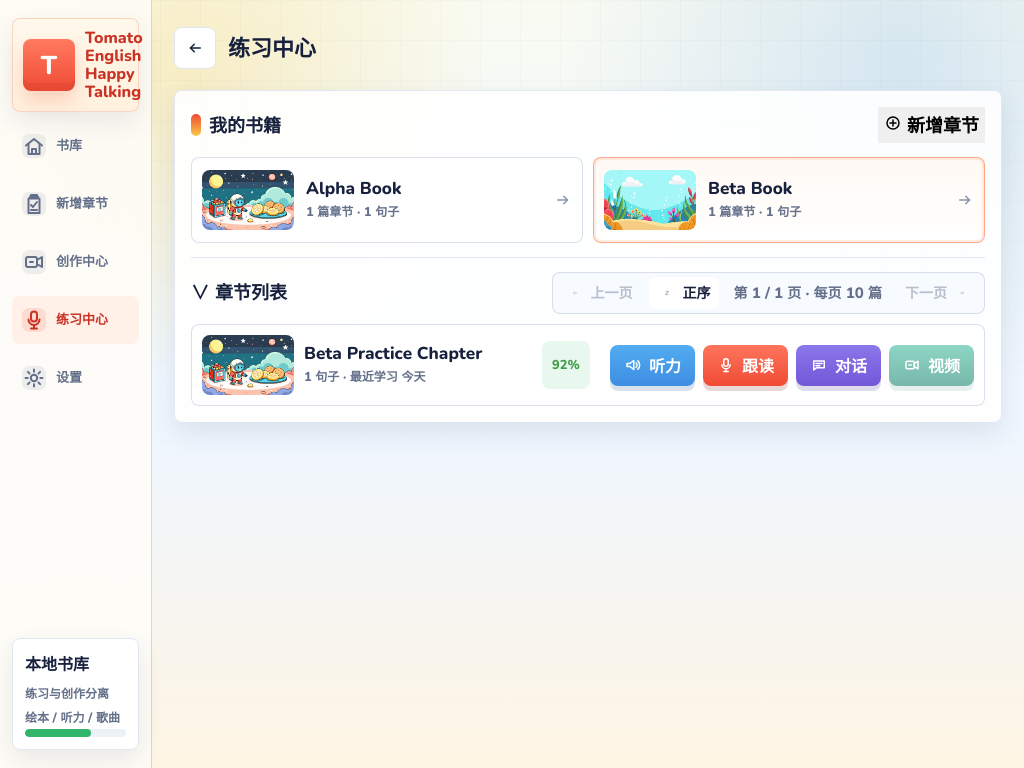
Test: App › opens the practice center at the requested book
The width and height of the screenshot is (1024, 768).
Check: the button "练习中心" is shown, box [12,296,139,344]
Check: the text "我的书籍" is shown, box [191,111,281,139]
What coordinates should you click on to do the following:
click the button with aria-label "折叠章节列表"
I would click on:
 (239, 293)
Its box is [191,282,287,304].
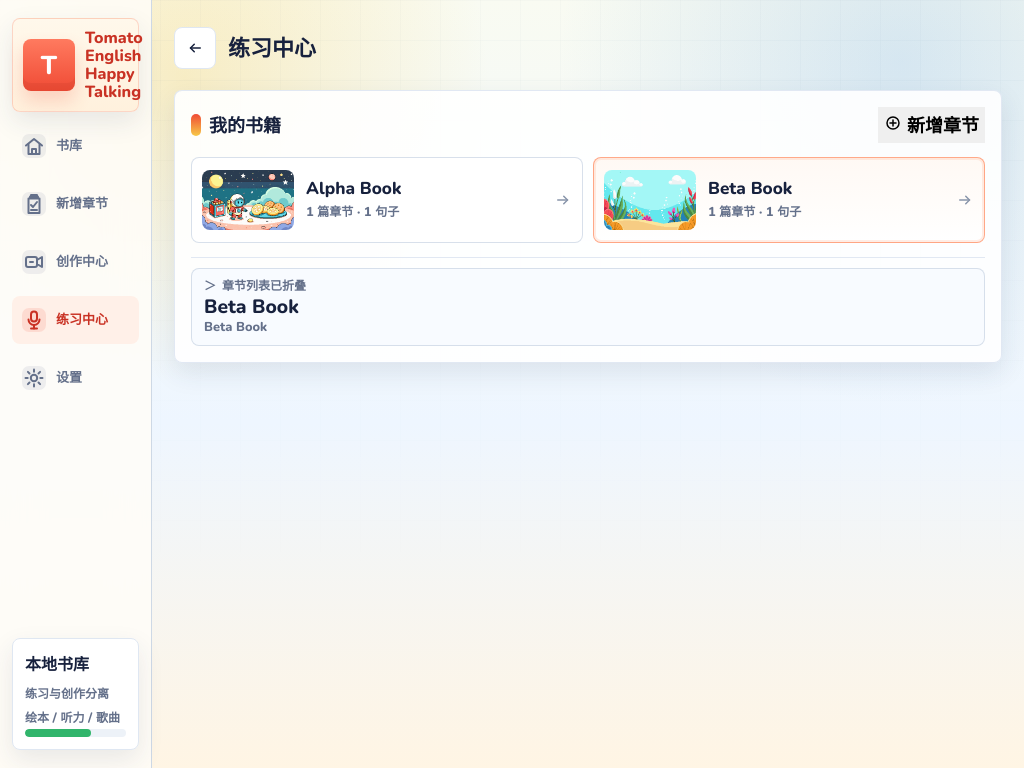
Check: the text "章节列表已折叠" is shown, box [222,279,306,294]
Check: the button "Beta Practice Chapter" is gone
Check: the button with aria-label "展开章节列表" shows "＞"
What coordinates should you click on to do the following:
click the button with aria-label "展开章节列表"
I would click on:
 (264, 286)
Its box is [191,268,985,346].
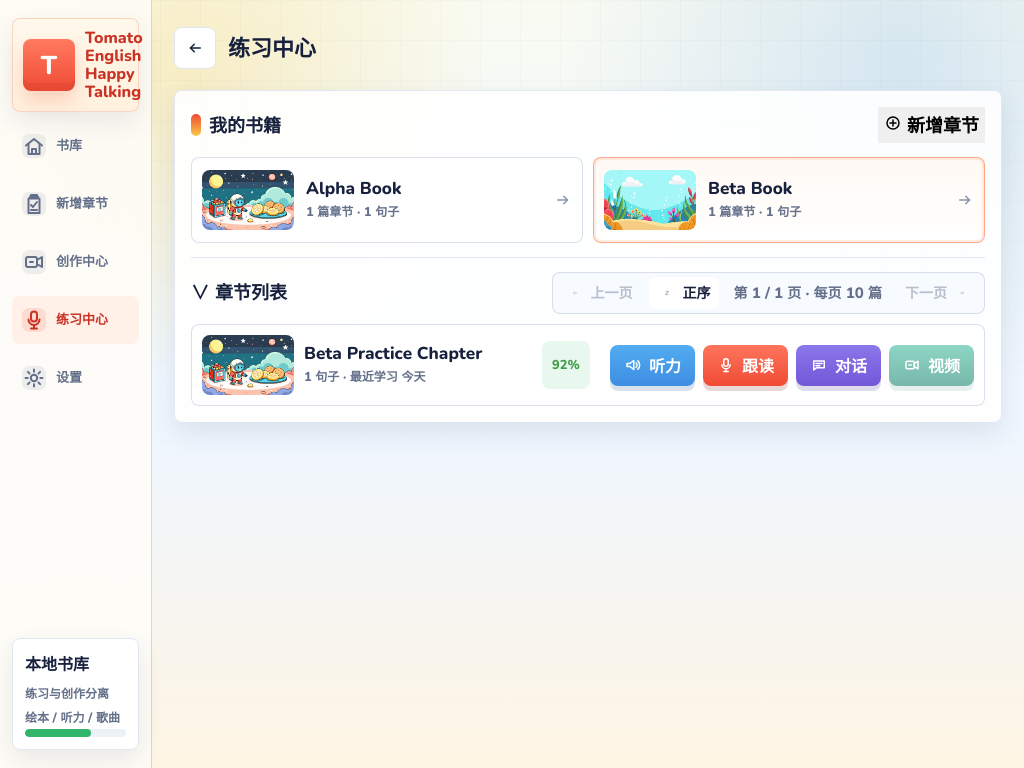
Check: the button "Beta Practice Chapter" is shown, box [304,344,482,364]
What coordinates should you click on to do the following:
click the button "Alpha Book 1 篇章节 · 1 句子"
I would click on:
 (387, 200)
Its box is [202,168,572,232].
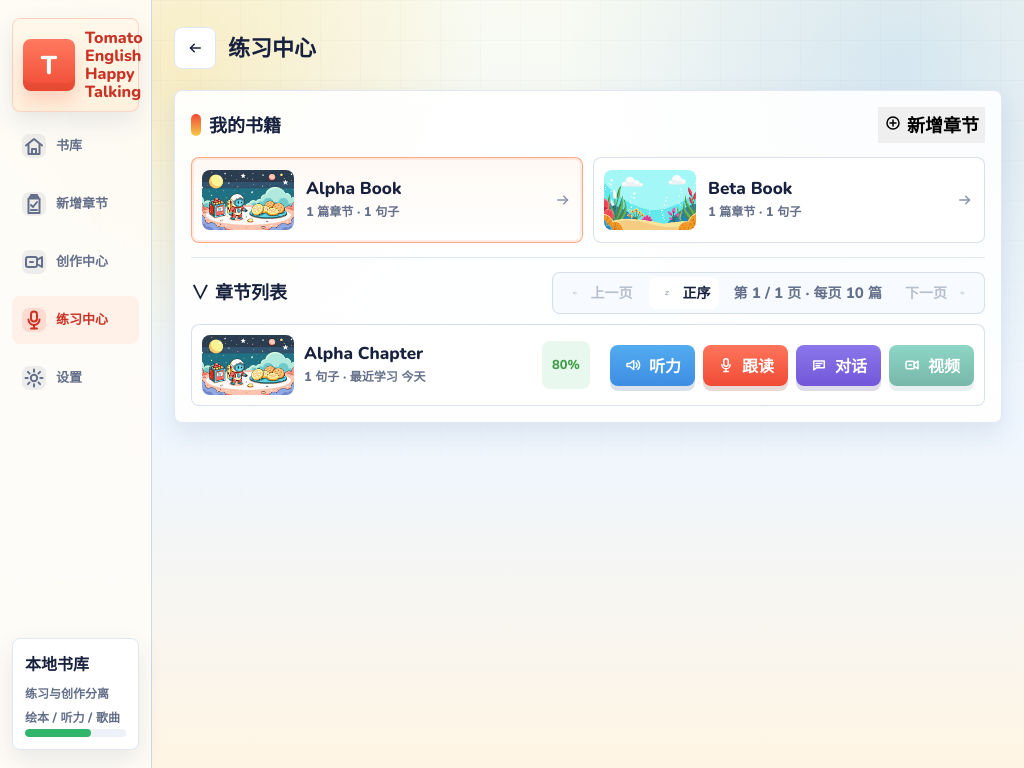
Check: the button "Alpha Chapter" is shown, box [304,344,423,364]
Check: the button "Beta Practice Chapter" is gone
